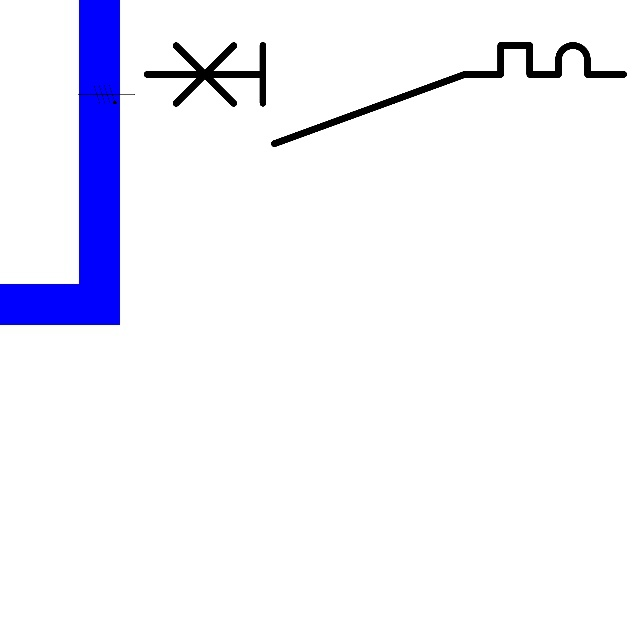interruptor_termomagnetico: (134, 33, 635, 155)
